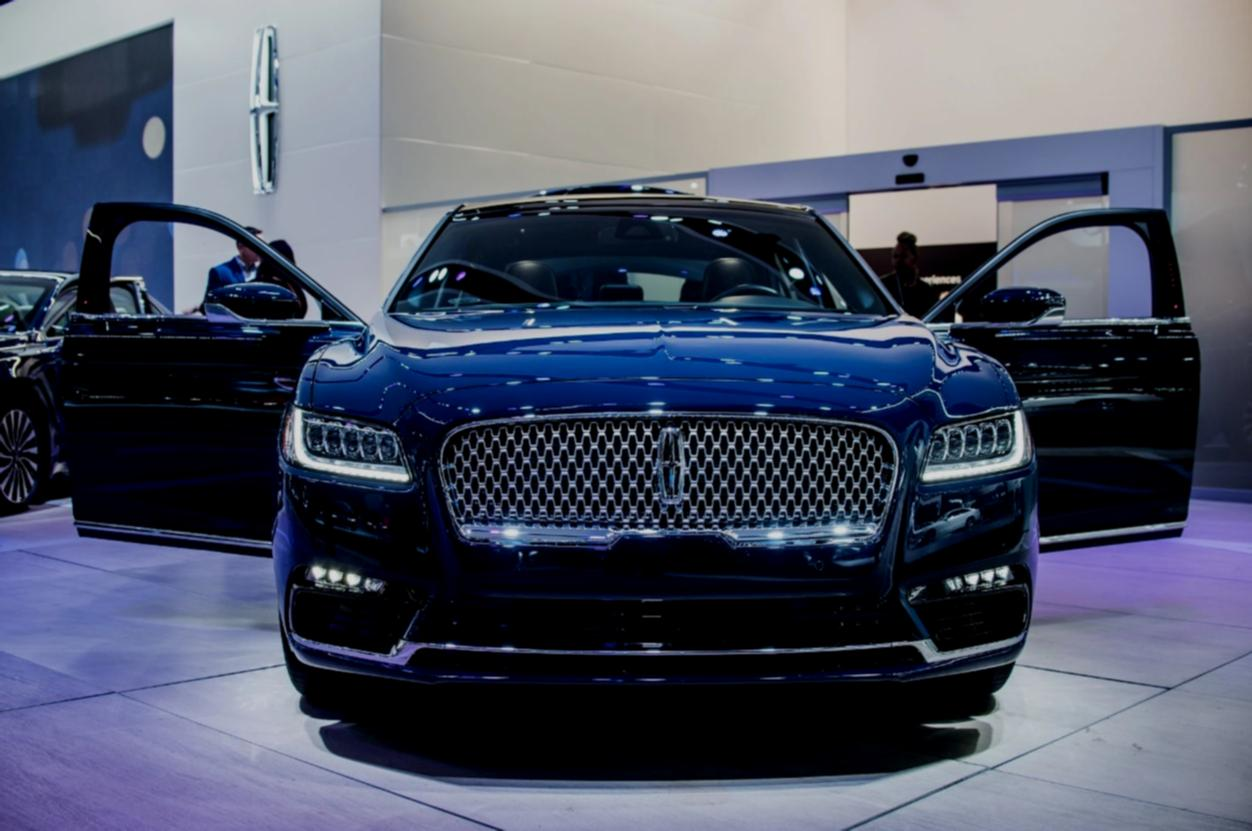lincoln: (644, 417, 697, 521)
